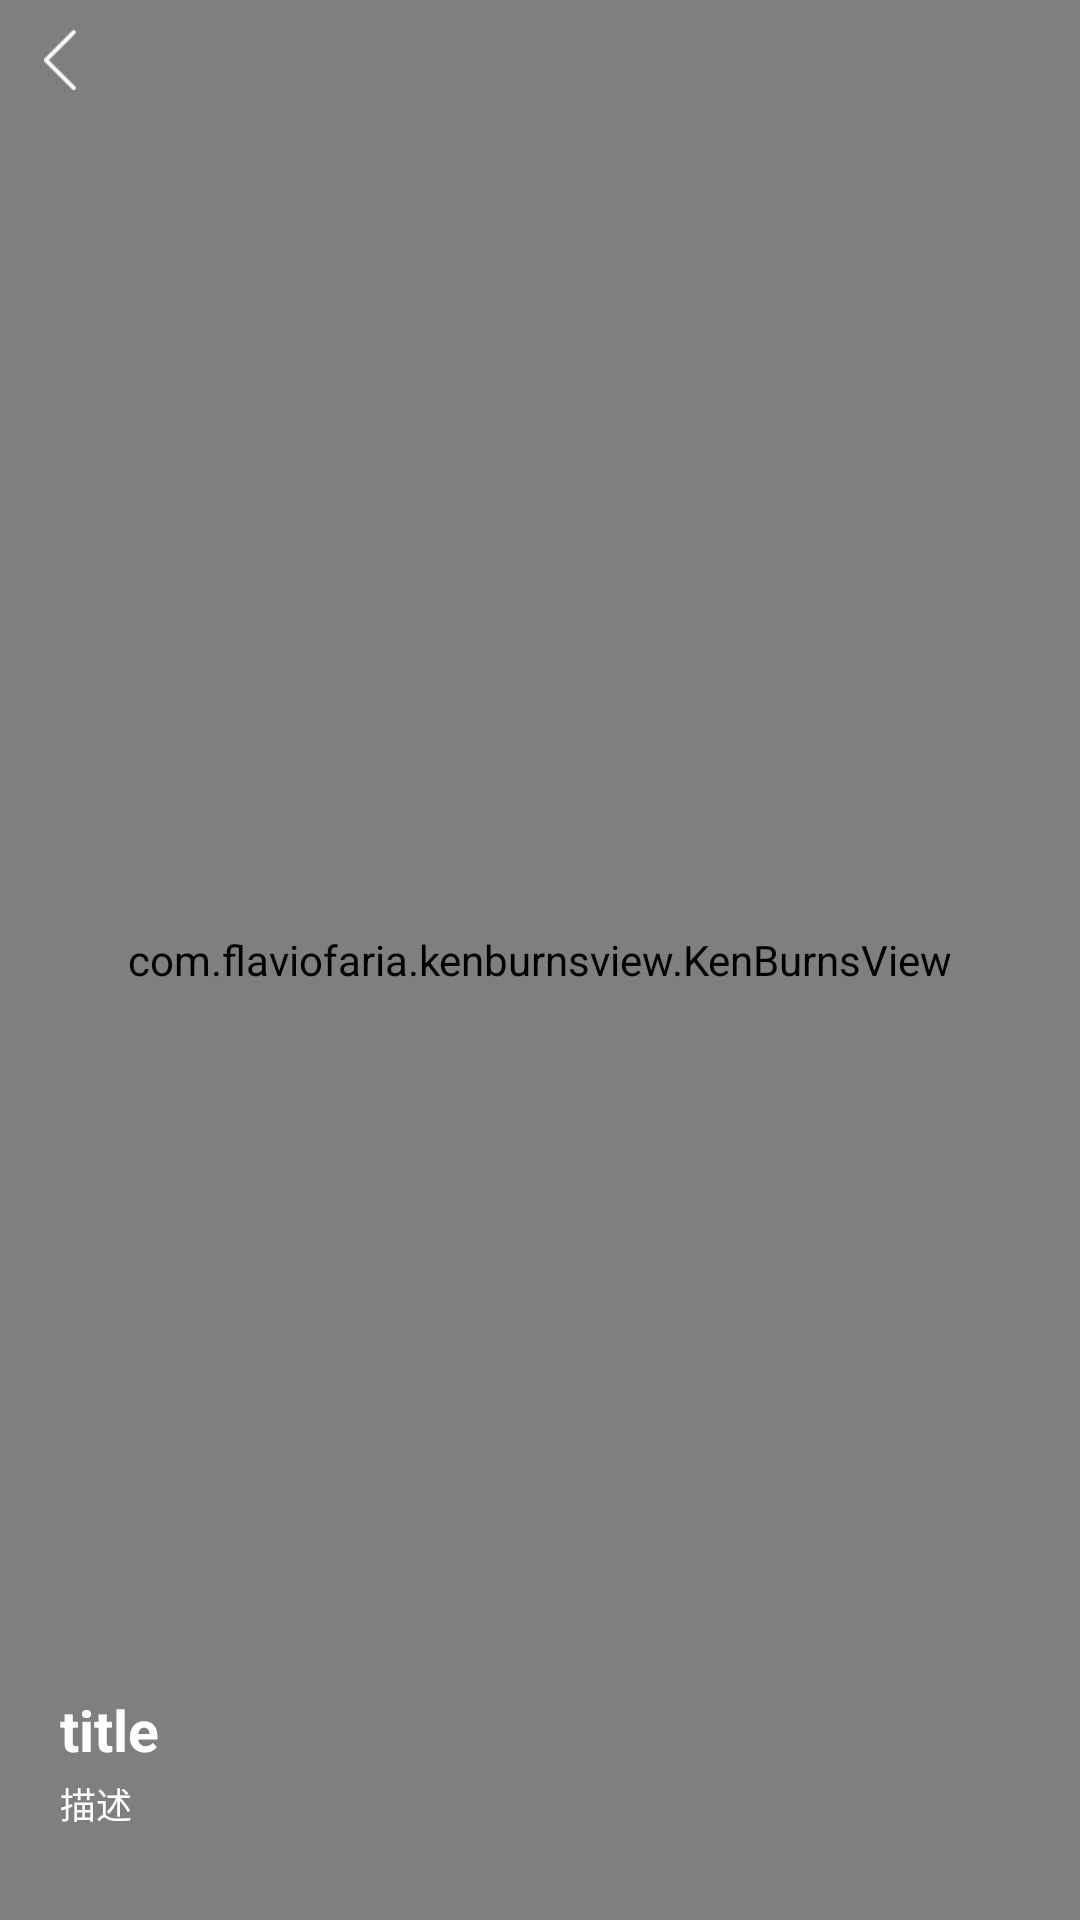

Icon click points for this 1080×1920 phone screenshot, format point (x, y):
back: point (60, 60)
